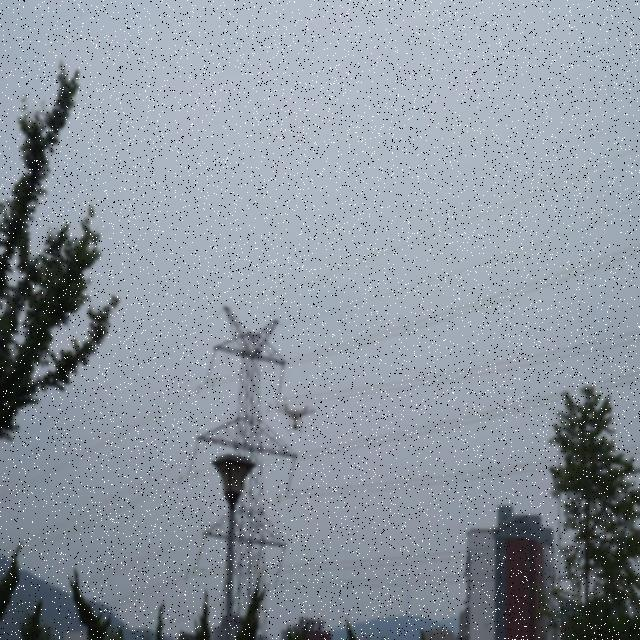UAV: (276, 404, 316, 434)
